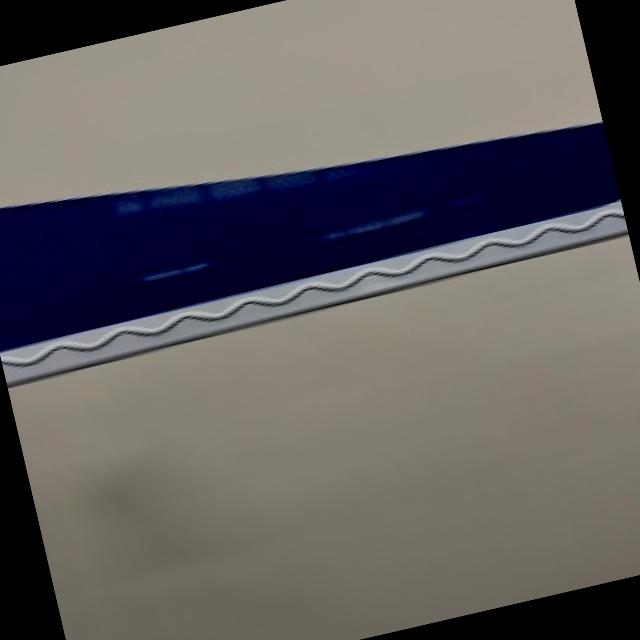healthy: (0, 123, 625, 384)
